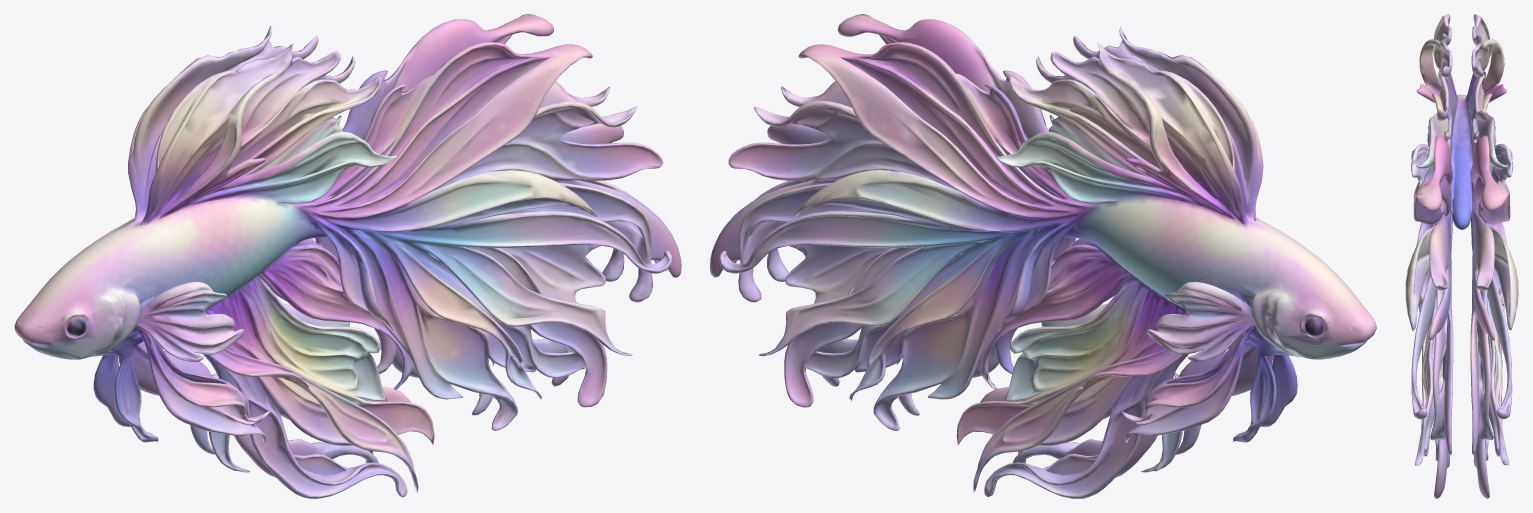
File: cupang.glb
3 views of the same model, side by side, from view 1: azimuth 30°, elevation 25°; view 2: azimuth 150°, elevation 25°; view 3: azimuth 270°, elevation 25° (orthographic). The views are drawn at different scales.
Parts seen in each view (by area): view 1: material; view 2: material; view 3: material.
Boxes of the visible parts, box(x1,y1,x2,y2) form: material: box(14, 14, 681, 498); material: box(710, 14, 1376, 498); material: box(1405, 14, 1518, 498).
Bounding box in the file's own units: 1.16 × 0.8065 × 0.214.
Materials: 1 (1 with a texture image).
